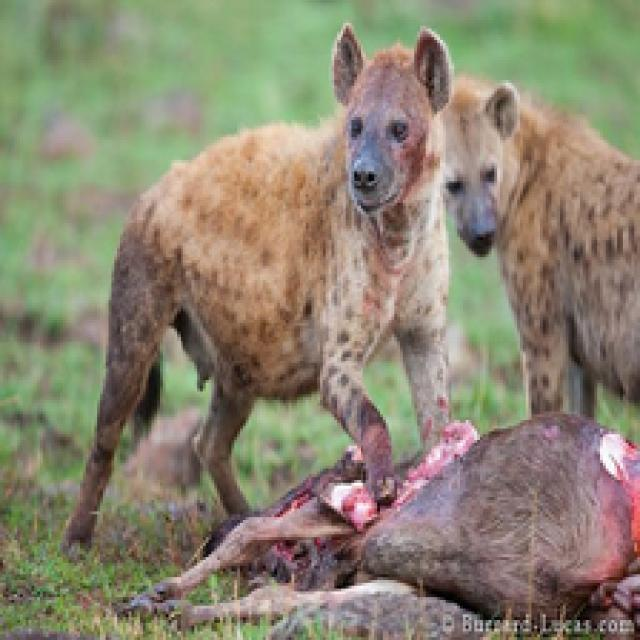hyena: (37, 23, 427, 538), (387, 58, 640, 536)
